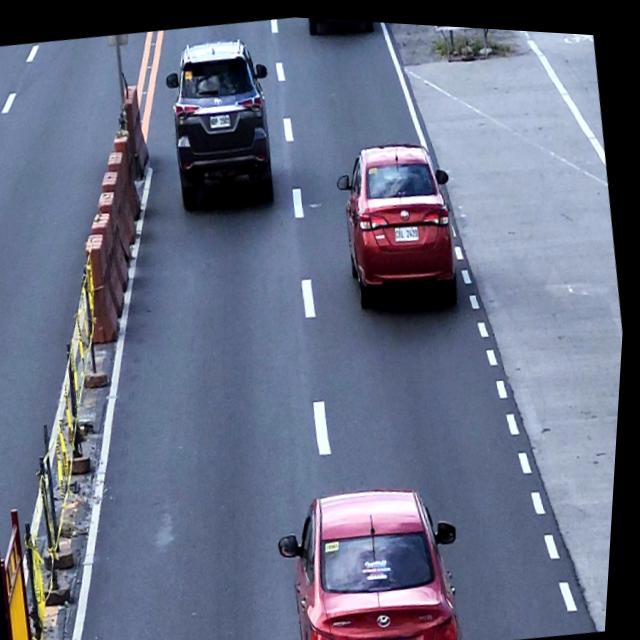Car: (272, 468, 482, 640), (328, 128, 474, 322), (154, 27, 291, 215)
License-Plate: (396, 218, 423, 239), (210, 111, 233, 127), (373, 632, 414, 640)
